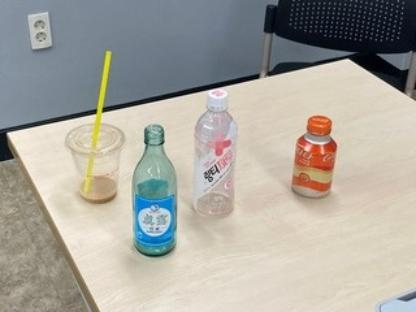Glass Bottle: (131, 124, 179, 258)
Others: (291, 116, 337, 198)
Plastic Bottle: (191, 88, 240, 224)
Plastic Cup: (66, 123, 126, 204)
